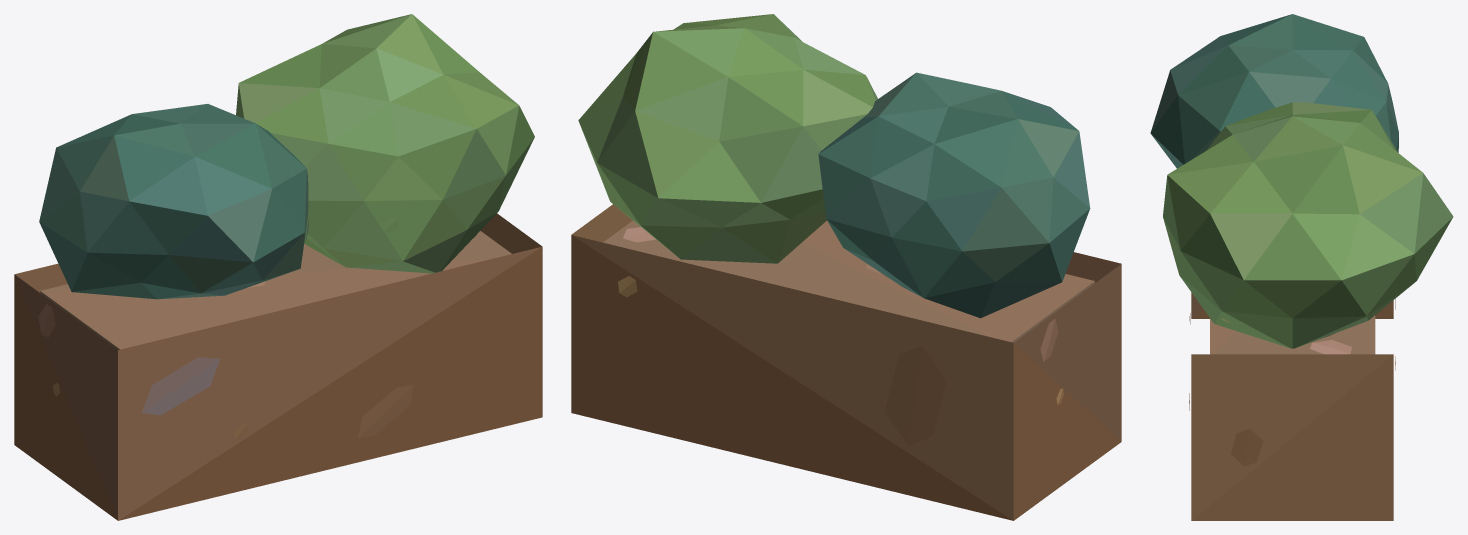
Rendered from HK_Planter.glb.
The picture shows the model from 3 angles, left to right: view 1: azimuth 30°, elevation 25°; view 2: azimuth 150°, elevation 25°; view 3: azimuth 270°, elevation 25°; orthographic projection. The views are drawn at different scales.
Visible parts, largest first — view 1: HK_Planter; view 2: HK_Planter; view 3: HK_Planter.
Boxes of the visible parts, left/top/right/bottom form: HK_Planter: left=14, top=14, right=542, bottom=520; HK_Planter: left=571, top=14, right=1121, bottom=520; HK_Planter: left=1150, top=14, right=1453, bottom=520.
Bounding box in the file's own units: 1.38 × 1.05 × 0.8241.
